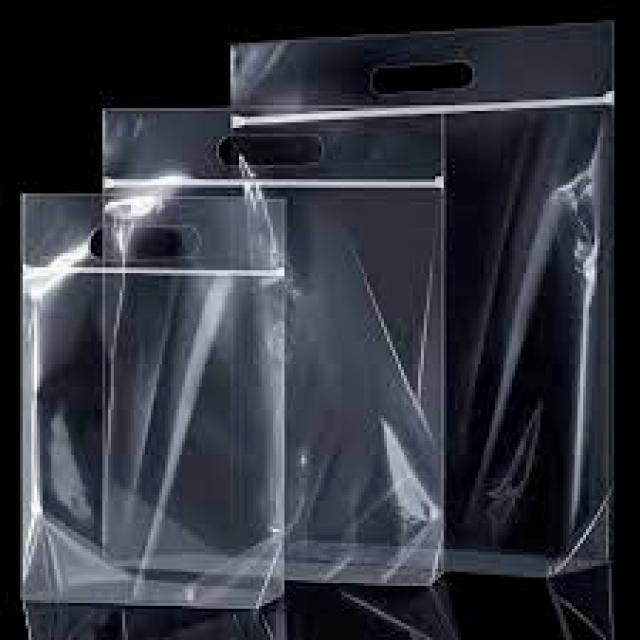Single-layer Plastic: (229, 17, 617, 638), (99, 108, 444, 585), (20, 192, 286, 638)
